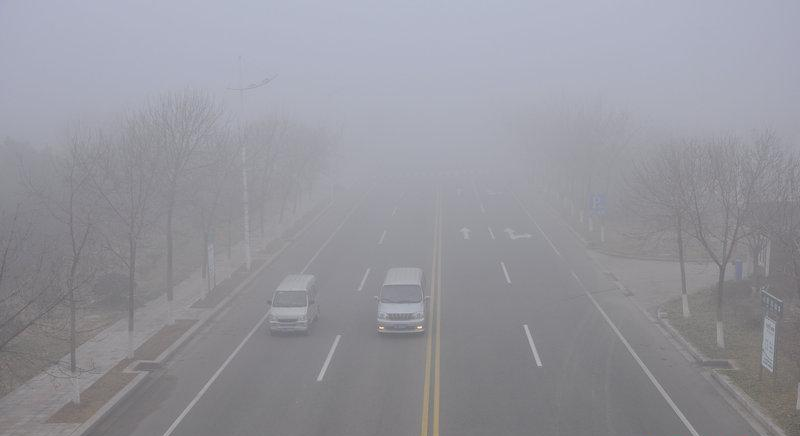car: (374, 266, 432, 338), (267, 273, 319, 335)
